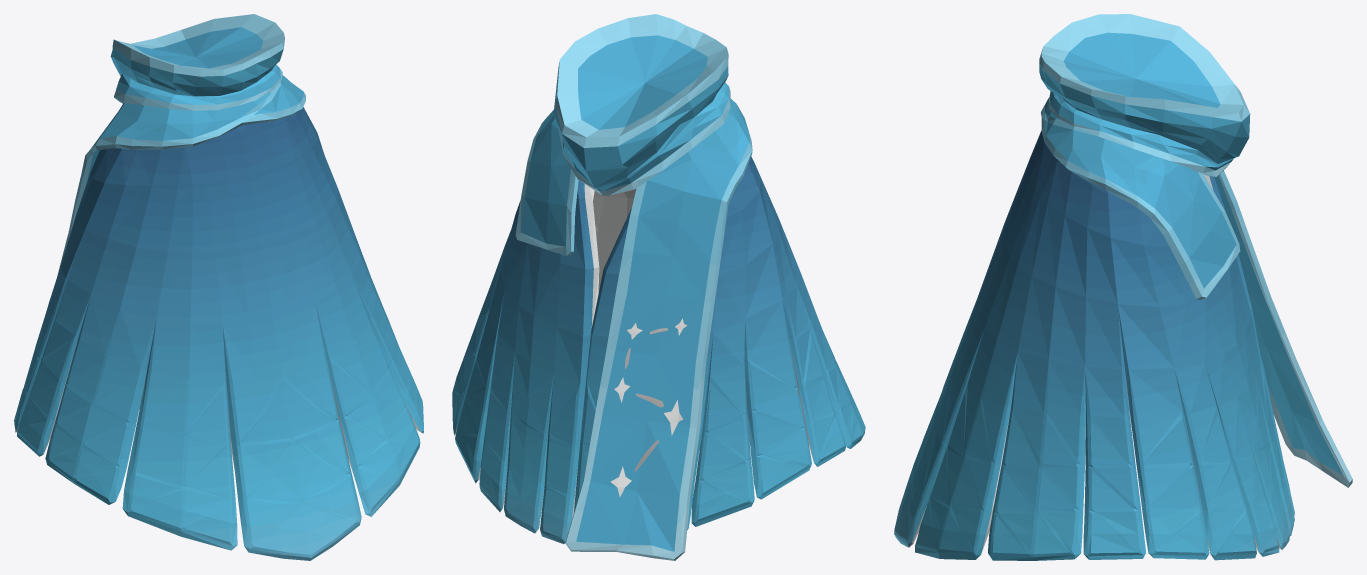
File: CharSkyKid_Wing_TGCWireframe.glb
The picture shows the model from 3 angles, left to right: view 1: azimuth 30°, elevation 25°; view 2: azimuth 150°, elevation 25°; view 3: azimuth 270°, elevation 25°; orthographic projection. The views are drawn at different scales.
Visible parts, largest first — view 1: CharSkyKid_Wing_TGCWireframe; view 2: CharSkyKid_Wing_TGCWireframe; view 3: CharSkyKid_Wing_TGCWireframe.
Boxes of the visible parts, <box> form: CharSkyKid_Wing_TGCWireframe: <box>14,14,423,560</box>; CharSkyKid_Wing_TGCWireframe: <box>452,14,865,560</box>; CharSkyKid_Wing_TGCWireframe: <box>894,14,1352,560</box>.
Size of the model in its own units: 6.37 by 7.48 by 6.34.
1 material, 1 textured.
